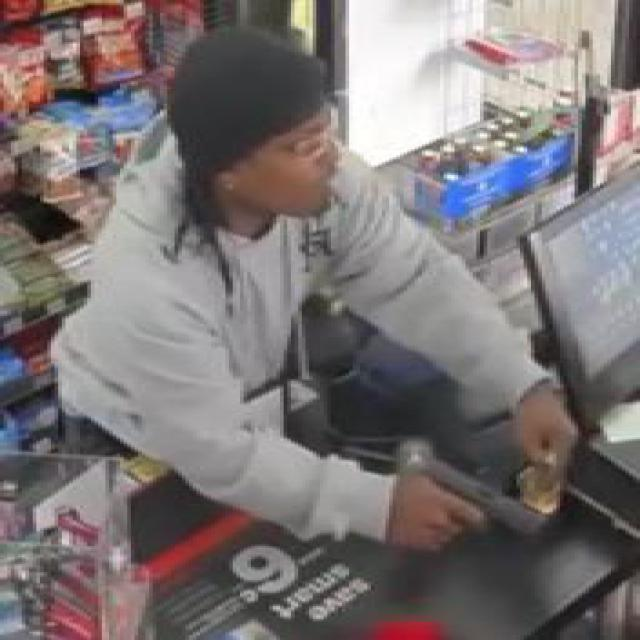gun: (389, 452, 546, 546)
